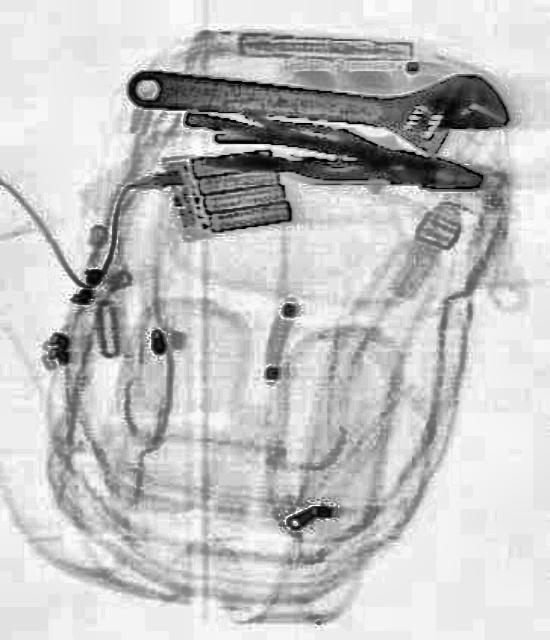Pliers: (205, 105, 487, 205)
Wrench: (122, 45, 512, 162)
